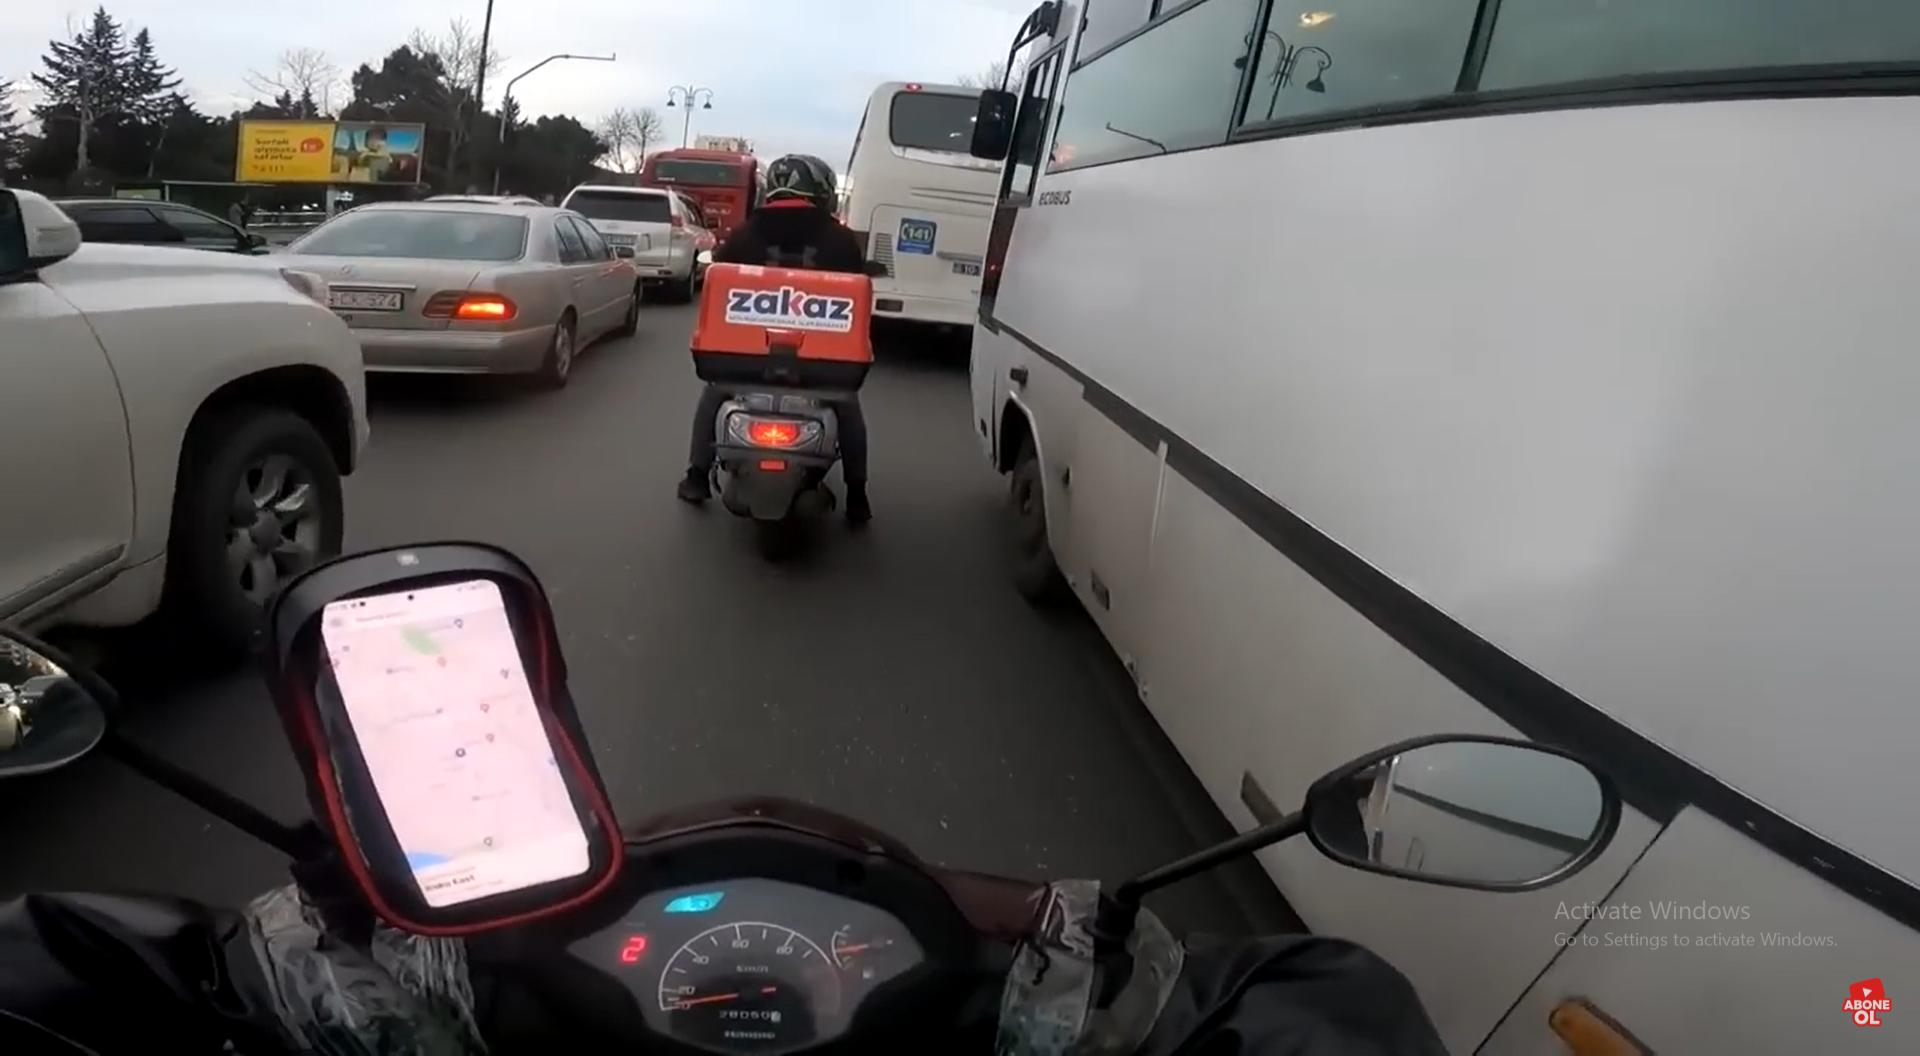banner: (240, 121, 424, 187)
